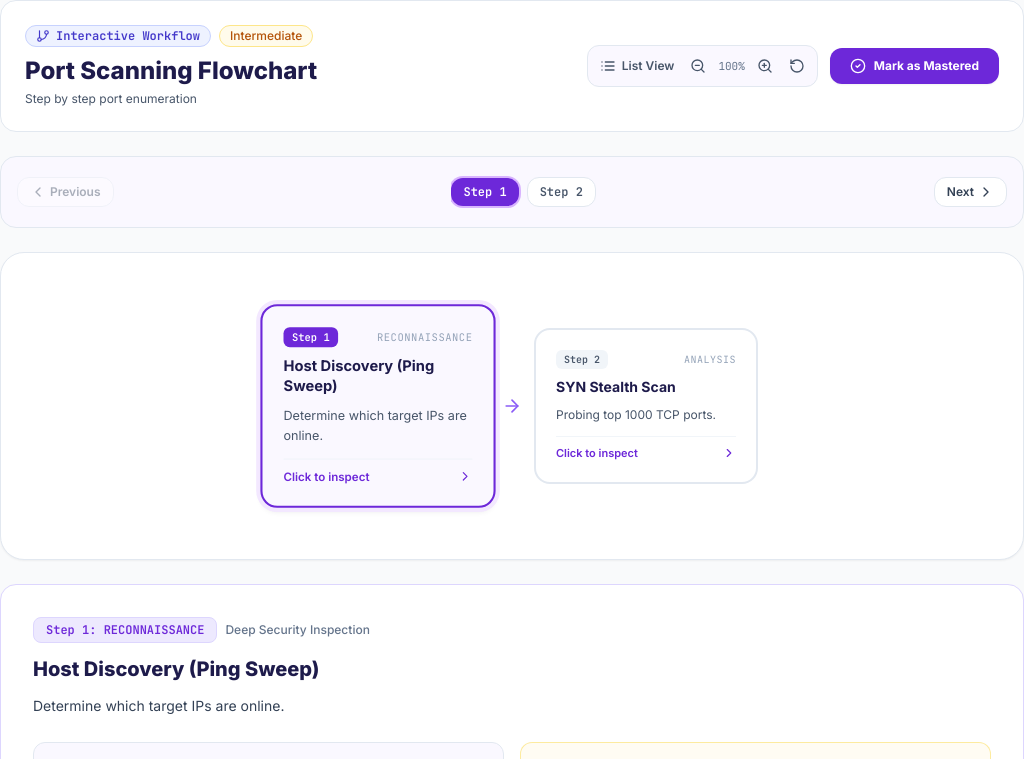
Scenario: CyberShield Visual Learning Hub Components › InteractiveFlowchart › renders flowchart steps and navigates through sequence
Expected: the heading "Port Scanning Flowchart" is shown, [25,55,317,87]
Expected: the heading "Host Discovery (Ping Sweep)" next to "SYN Stealth Scan" is shown, [284,357,434,395]
Click the button "Next". click: click(970, 192)
box: [934,177,1007,207]
(page scrolled)
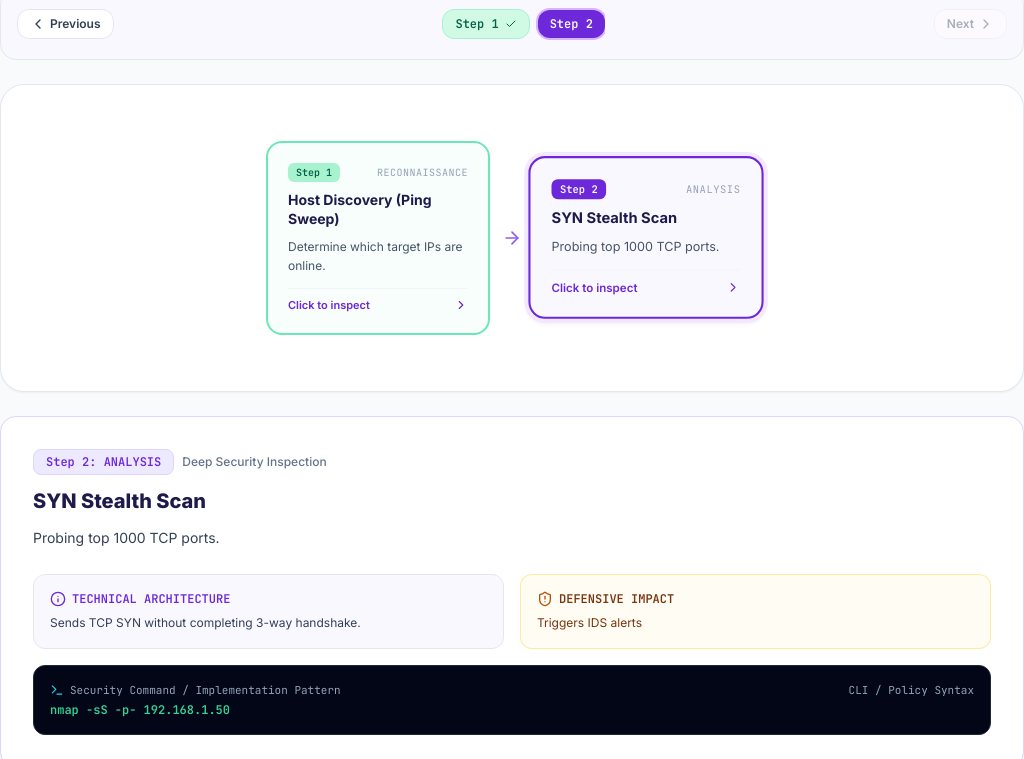
Expected: the heading "SYN Stealth Scan" below "Host Discovery (Ping Sweep)" is shown, [552,209,677,227]
Result: the text "nmap -sS -p- 192.168.1.50" is shown at [50,702,230,718]
